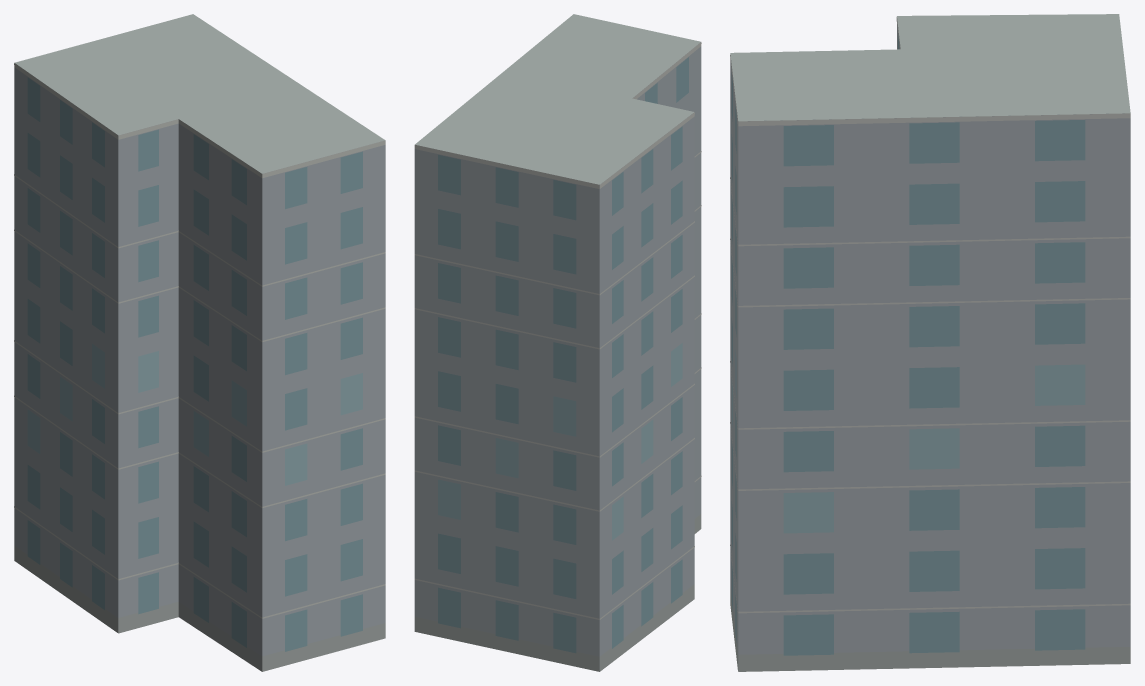
The model's file is survey-upis-32706885.glb.
3 views of the same model, side by side, from view 1: azimuth 30°, elevation 25°; view 2: azimuth 150°, elevation 25°; view 3: azimuth 270°, elevation 25° (orthographic). The views are drawn at different scales.
Visible parts, largest first — view 1: survey-upis-32706885.tmp; view 2: survey-upis-32706885.tmp; view 3: survey-upis-32706885.tmp.
Boxes of the visible parts, x1,y1,x2,y2 form: survey-upis-32706885.tmp: (14, 14, 385, 671); survey-upis-32706885.tmp: (414, 14, 701, 671); survey-upis-32706885.tmp: (730, 14, 1130, 671).
Size of the model in its own units: 11.44 by 27.3 by 18.02.
